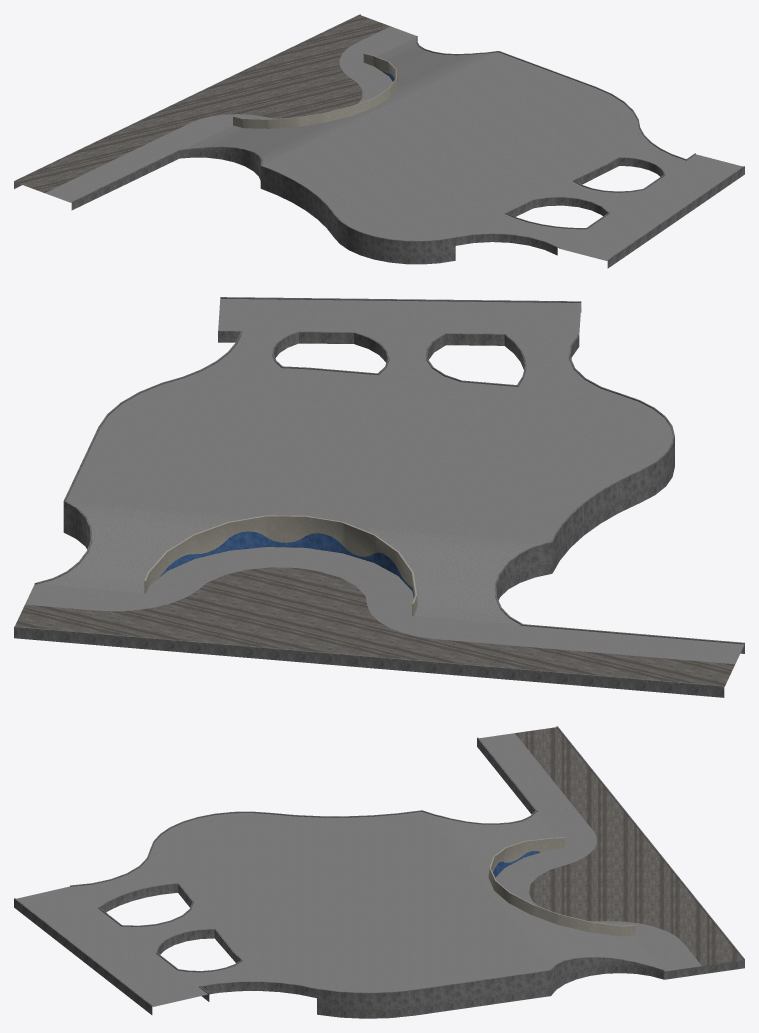
File: North Boardwalk.dae
The picture shows the model from 3 angles, top to bottom: view 1: azimuth 30°, elevation 25°; view 2: azimuth 150°, elevation 25°; view 3: azimuth 270°, elevation 25°; orthographic projection. The views are drawn at different scales.
Visible parts, largest first — view 1: Component_7 (×8); view 2: Component_7 (×9); view 3: Component_7 (×8).
Part boxes in pixels (x1,y1,x2,y2): Component_7 (×8): (14, 14, 744, 268); Component_7 (×9): (14, 297, 744, 697); Component_7 (×8): (14, 726, 744, 1018).
Size of the model in its own units: 3045 by 3170 by 162.
